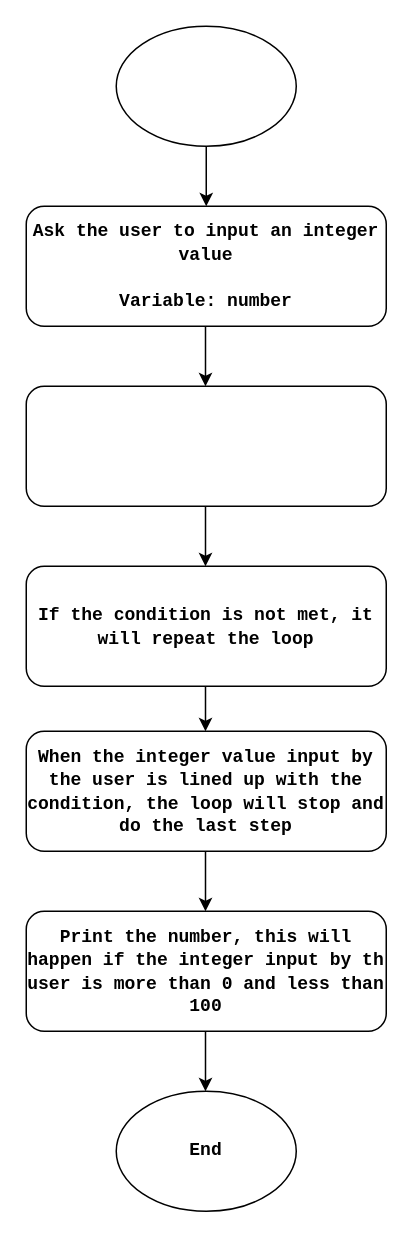
Image size: 413x1238. Some labels were removed from this diagram. The centre of each missing label's shape, as x and y in pixels:
Create the condition for the while loop. while not (0 < number < 100:: (x=205, y=445)
Start: (x=205, y=85)
